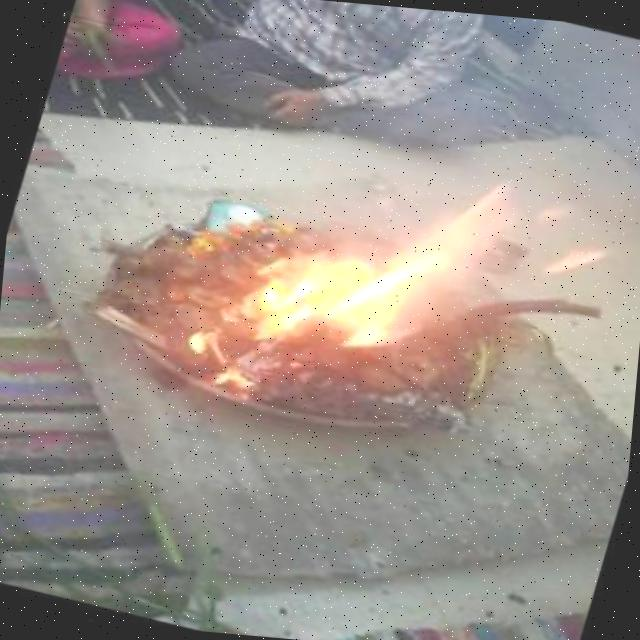fire: (261, 154, 519, 367)
